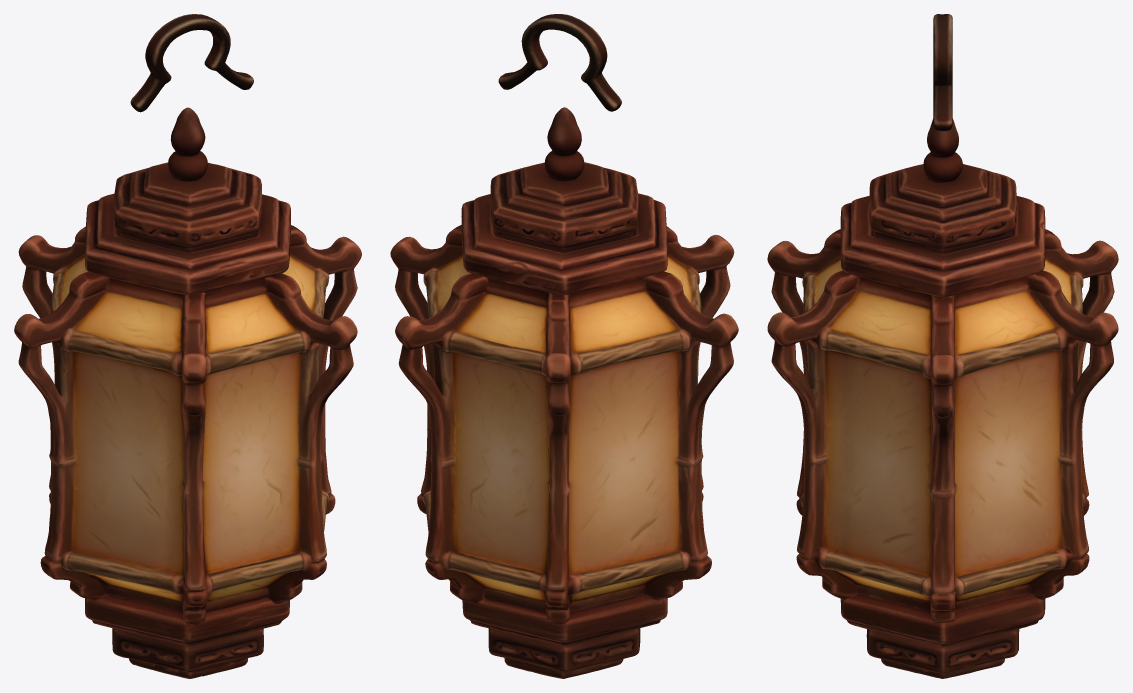
Rendered from Den_Long.glb.
3 renders of one model, left to right at view 1: azimuth 30°, elevation 25°; view 2: azimuth 150°, elevation 25°; view 3: azimuth 270°, elevation 25°, orthographic.
Parts seen in each view (by area): view 1: world; view 2: world; view 3: world.
Boxes of the visible parts, box(x1,y1,x2,y2) form: world: box(14, 14, 361, 678); world: box(390, 14, 738, 678); world: box(767, 14, 1118, 678).
Bounding box in the file's own units: 0.5638 × 1 × 0.504.
1 material, 1 textured.
